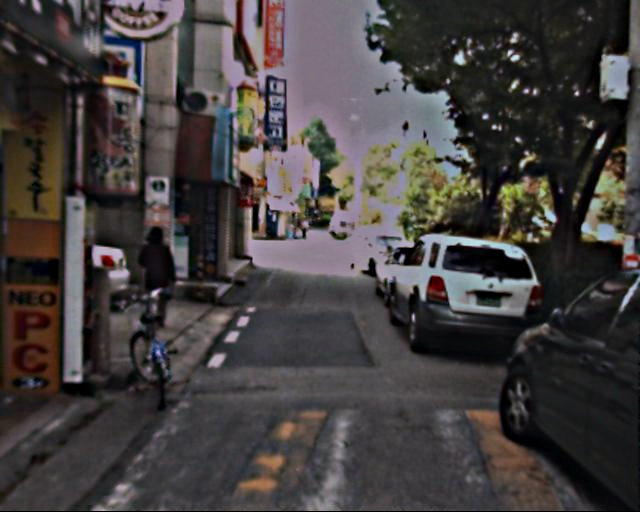person: (138, 222, 186, 333)
